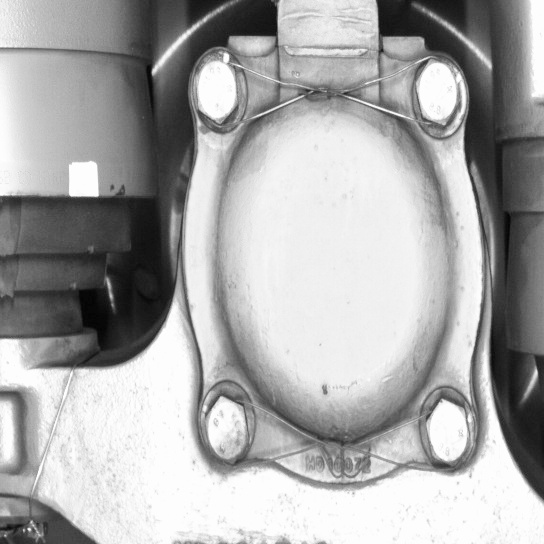IronWire: (186, 48, 473, 138), (197, 386, 478, 473)
Screw: (402, 52, 472, 137), (186, 48, 244, 140), (415, 390, 477, 472), (195, 388, 255, 471)
